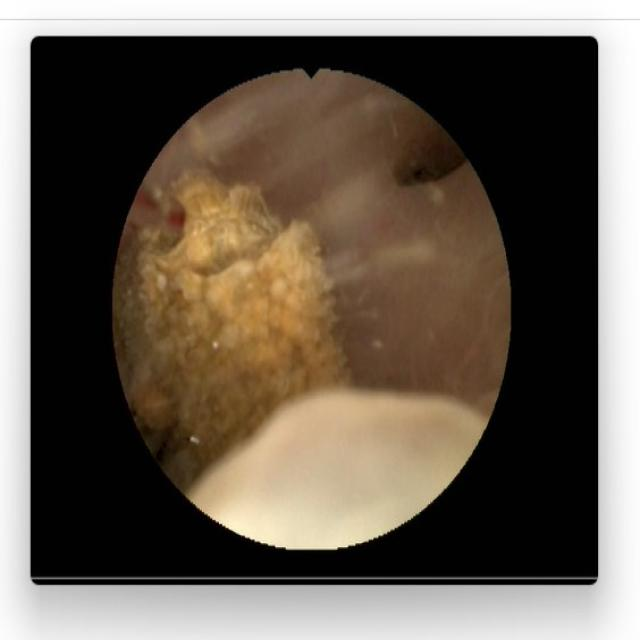stone: (119, 183, 346, 478)
